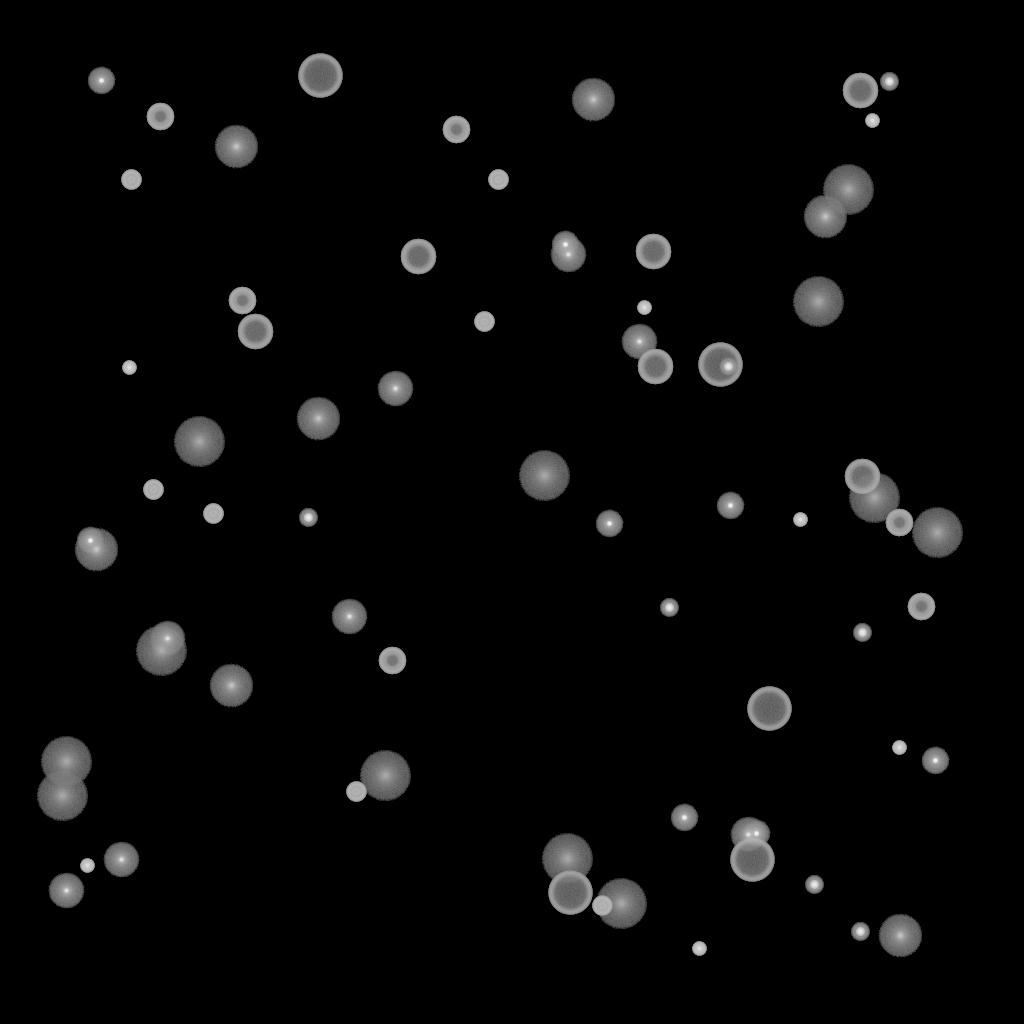depth:-10: (716, 492, 744, 520), (76, 527, 104, 555), (921, 747, 949, 775), (595, 510, 623, 538), (551, 231, 579, 259), (742, 820, 770, 848), (670, 804, 698, 832), (87, 67, 115, 95)
depth:-20: (660, 599, 678, 617), (851, 923, 869, 941), (299, 509, 317, 527), (853, 624, 871, 642), (880, 73, 898, 91), (805, 876, 823, 894), (719, 358, 737, 376)
depth:-30: (637, 301, 651, 315), (892, 741, 906, 755), (122, 361, 136, 375), (80, 859, 94, 873), (692, 942, 706, 956), (793, 513, 807, 527), (865, 114, 879, 128)
depth:-40: (592, 896, 612, 916), (121, 170, 141, 190), (143, 480, 163, 500), (474, 312, 494, 332), (346, 782, 366, 802), (203, 504, 223, 524), (488, 170, 508, 190)
depth:-50: (442, 116, 470, 144), (146, 103, 174, 131), (378, 647, 406, 675), (885, 509, 913, 537), (228, 287, 256, 315), (907, 593, 935, 621)
depth:-60: (844, 459, 880, 495), (237, 314, 273, 350), (637, 349, 673, 385), (842, 73, 878, 109), (400, 239, 436, 275), (635, 234, 671, 270)
depth:-70: (698, 343, 742, 387), (298, 54, 342, 98), (730, 838, 774, 882), (747, 687, 791, 731), (548, 871, 592, 915)
depth:0: (377, 371, 413, 407), (103, 842, 139, 878), (621, 324, 657, 360), (550, 237, 586, 273), (149, 621, 185, 657), (48, 873, 84, 909), (331, 599, 367, 635), (730, 817, 766, 853)
depth:10: (571, 78, 615, 122), (214, 125, 258, 169), (209, 664, 253, 708), (74, 528, 118, 572), (878, 914, 922, 958), (803, 195, 847, 239), (296, 397, 340, 441)
depth:20: (40, 737, 92, 787), (848, 473, 900, 523), (792, 277, 844, 327), (911, 508, 963, 558), (173, 417, 225, 467), (36, 771, 88, 821), (541, 834, 593, 884), (595, 879, 647, 929), (135, 626, 187, 676), (518, 451, 570, 501), (822, 165, 874, 215), (359, 751, 411, 801)
